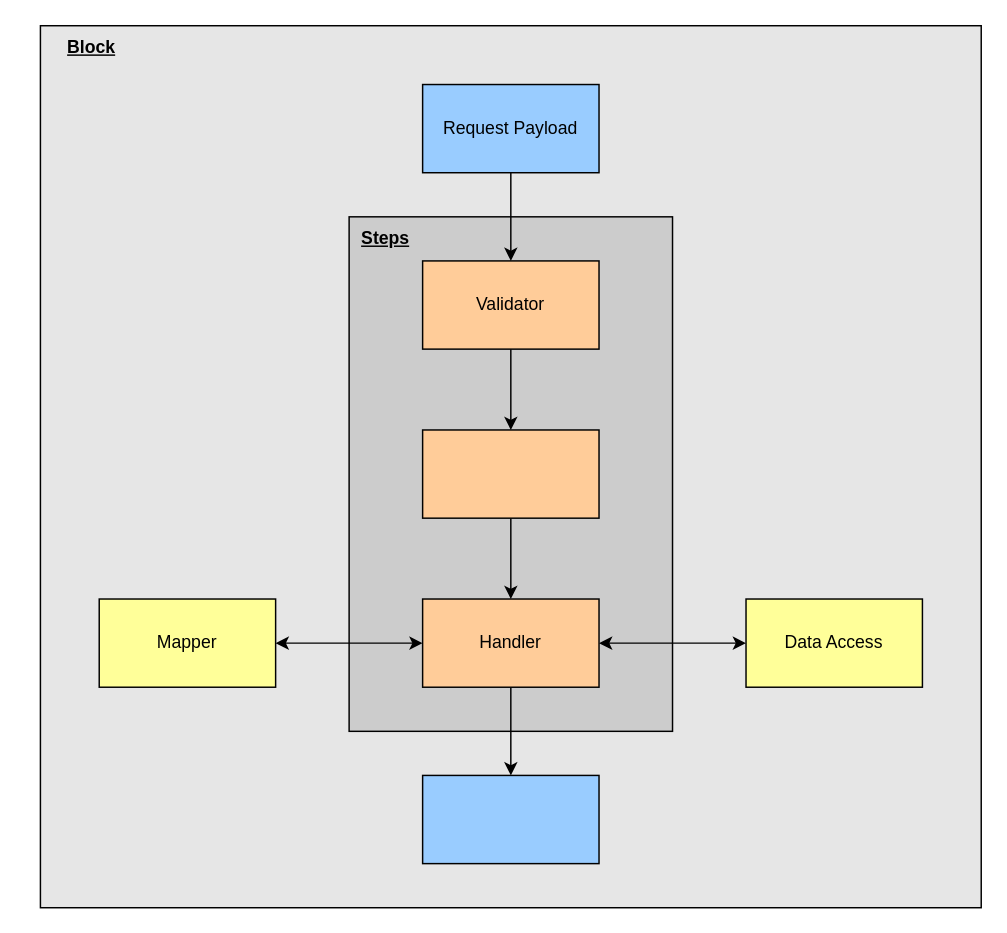
Image size: 1007x933. Some labels were removed from this diagram. The box of each missing label's shape, as (x1, y1, x2, y2) in pixels:
Response Payload: (421, 774, 599, 864)
Verificator: (421, 429, 599, 518)
